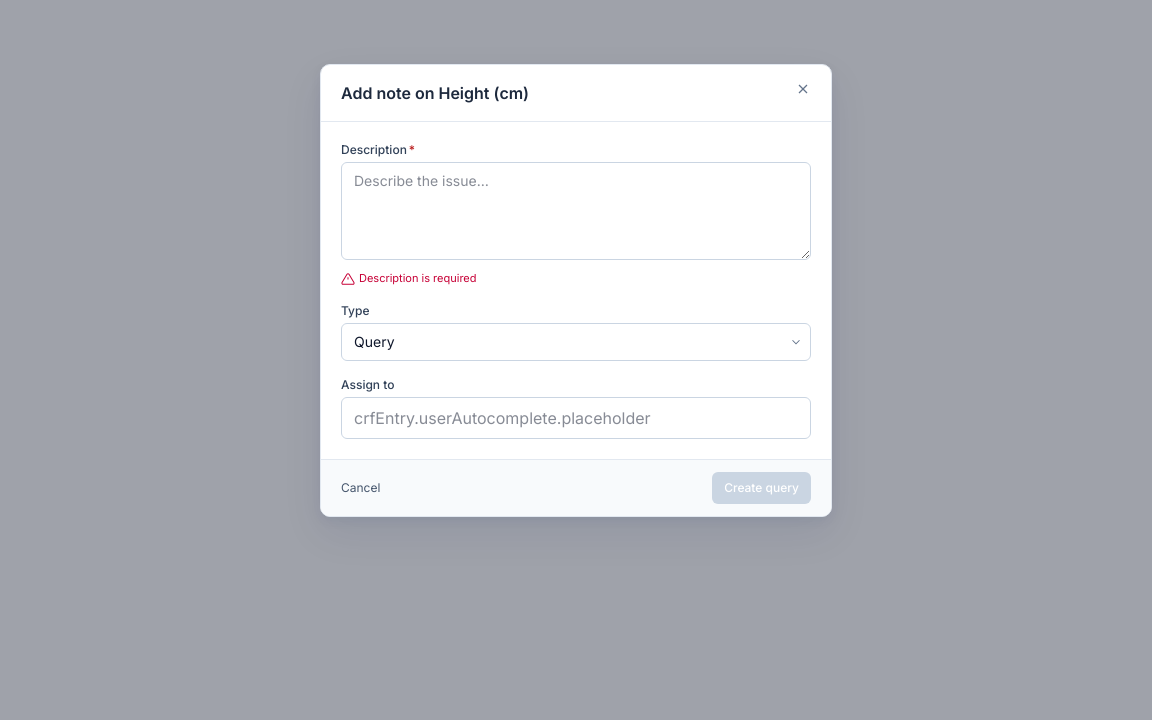
Test: NewNoteDialog › disables Submit while the description is empty
Expected: the button "Create query" is disabled, [712,472,811,504]
Type "Now there is text" into the text box with id "new-note-description" at (576, 211), box [341,162,811,260]
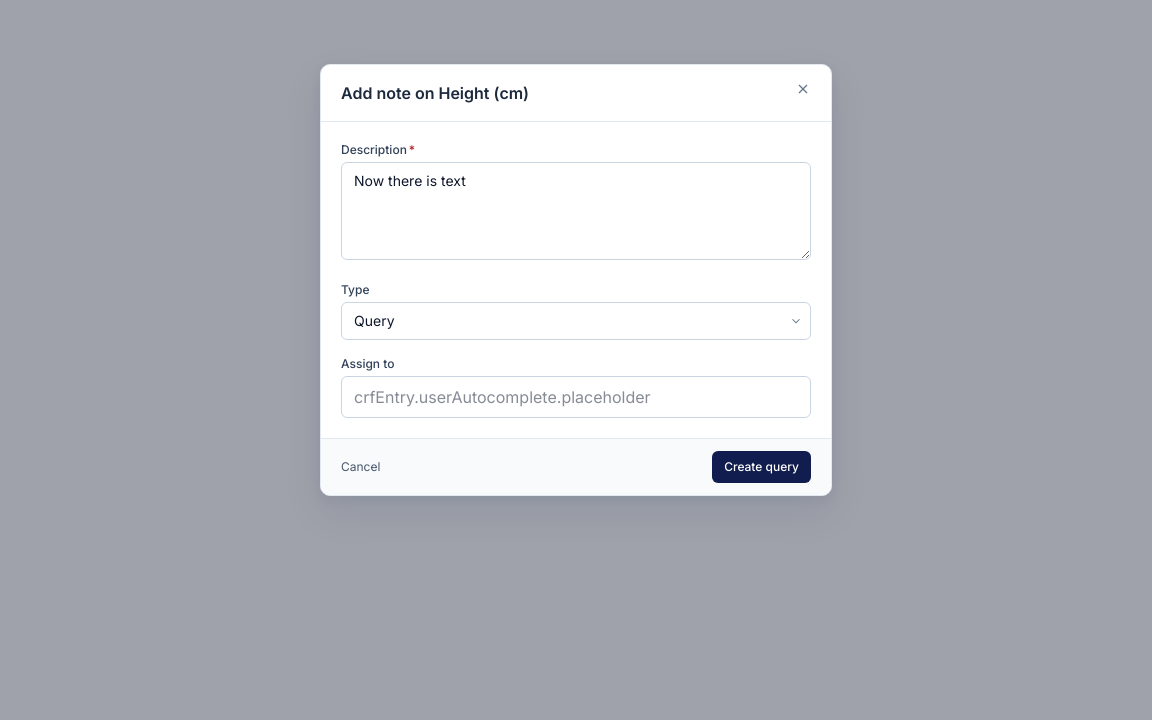
Now the button "Create query" is enabled, box [712,451,811,483]
